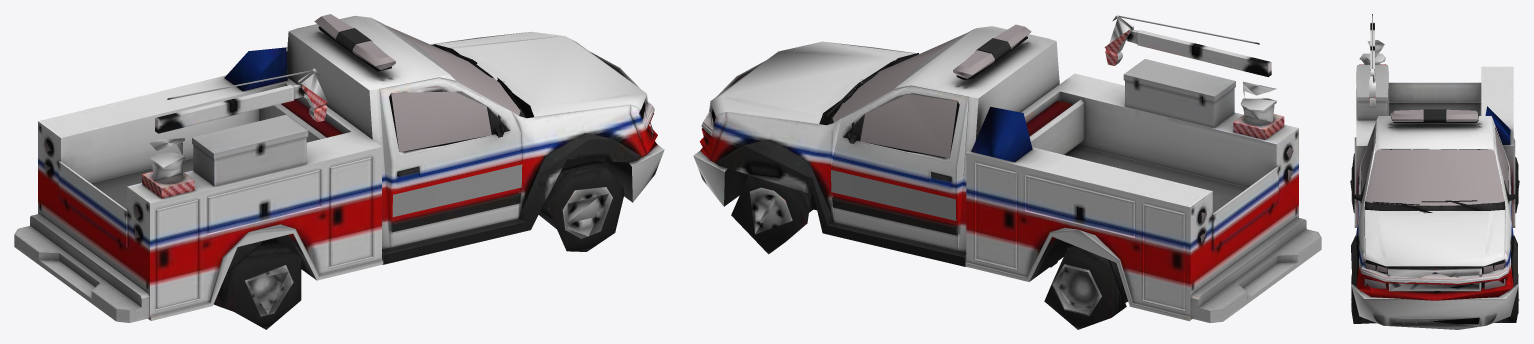
Rendered from civ-service.lod1.glb.
3 renders of one model, left to right at view 1: azimuth 30°, elevation 25°; view 2: azimuth 150°, elevation 25°; view 3: azimuth 270°, elevation 25°, orthographic. The views are drawn at different scales.
Parts seen in each view (by area): view 1: rdservtruck_cervicetruck_tex_0, rdservtruck_glass_tex_0; view 2: rdservtruck_cervicetruck_tex_0, rdservtruck_glass_tex_0; view 3: rdservtruck_cervicetruck_tex_0, rdservtruck_glass_tex_0.
Part boxes in pixels (box(x1,y1,x2,y2)): rdservtruck_cervicetruck_tex_0: box(14, 15, 664, 329); rdservtruck_glass_tex_0: box(44, 14, 653, 238); rdservtruck_cervicetruck_tex_0: box(693, 14, 1321, 329); rdservtruck_glass_tex_0: box(705, 24, 1293, 243); rdservtruck_cervicetruck_tex_0: box(1350, 14, 1519, 329); rdservtruck_glass_tex_0: box(1357, 109, 1512, 289).
Size of the model in its own units: 5.23 by 2.16 by 1.95.
2 materials, 1 textured.
